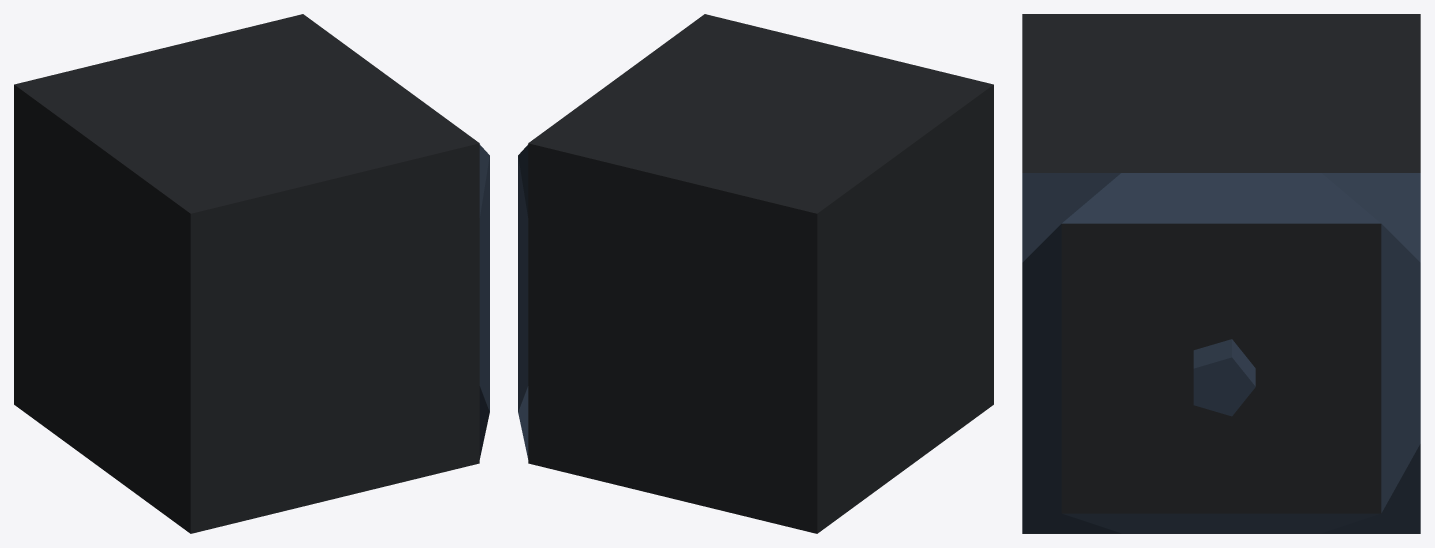
Rendered from safe.glb.
The picture shows the model from 3 angles, left to right: view 1: azimuth 30°, elevation 25°; view 2: azimuth 150°, elevation 25°; view 3: azimuth 270°, elevation 25°; orthographic projection. The views are drawn at different scales.
Visible parts, largest first — view 1: Cube, Cube.001; view 2: Cube, Cube.001; view 3: Cube.001, Cube.
Boxes of the visible parts, x1=… form: Cube: x1=14, y1=14, x2=479, y2=533; Cube.001: x1=479, y1=144, x2=489, y2=459; Cube: x1=528, y1=14, x2=993, y2=533; Cube.001: x1=518, y1=144, x2=528, y2=459; Cube.001: x1=1022, y1=173, x2=1420, y2=533; Cube: x1=1022, y1=14, x2=1420, y2=533.
Bounding box in the file's own units: 1.24 × 1.09 × 1.09.
1 material, 1 textured.
